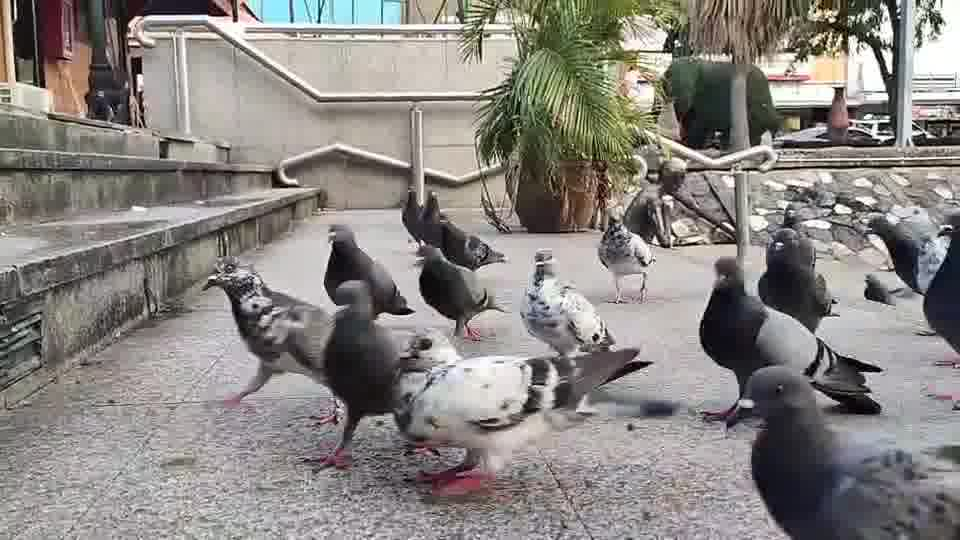Pigeon: (736, 365, 959, 539), (392, 344, 654, 488), (697, 255, 885, 435), (300, 279, 458, 472), (199, 254, 342, 425), (865, 203, 959, 356), (519, 247, 616, 355), (413, 243, 507, 342), (757, 226, 840, 334), (322, 222, 415, 318), (400, 188, 507, 270), (596, 210, 656, 304), (862, 271, 904, 305)
